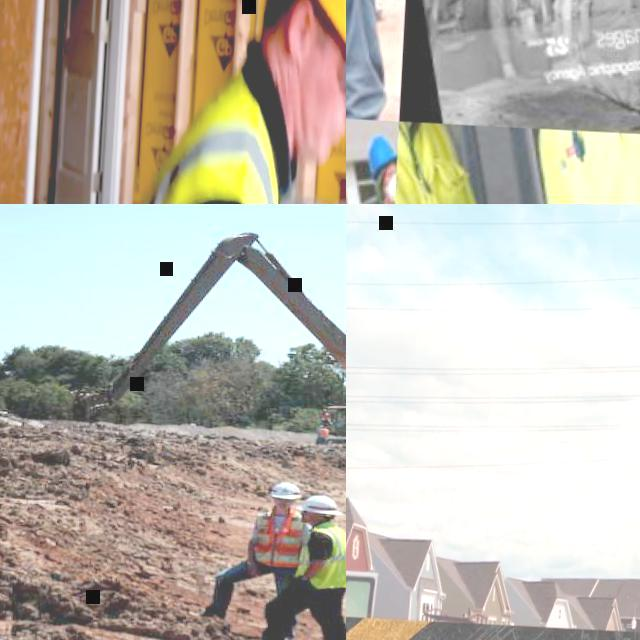helmet: (366, 135, 396, 178), (296, 494, 344, 516), (270, 482, 302, 500), (318, 424, 324, 428), (322, 408, 327, 411)
machinery: (64, 222, 346, 449)
mask: (384, 176, 395, 204)
no_mask: (294, 69, 338, 163), (272, 502, 294, 509), (300, 514, 314, 524)
no_vest: (417, 0, 493, 87), (581, 0, 637, 90), (542, 0, 585, 84), (495, 0, 554, 55), (623, 0, 640, 105)
person: (119, 0, 346, 204), (199, 478, 313, 639), (386, 120, 566, 204), (259, 492, 346, 640), (523, 127, 640, 204), (415, 0, 501, 96), (354, 133, 399, 204), (315, 424, 329, 445), (318, 408, 332, 428)
vest: (120, 70, 285, 204), (383, 120, 499, 204), (533, 126, 640, 204), (293, 520, 346, 592), (251, 512, 305, 568), (318, 428, 328, 437), (320, 412, 330, 419)
